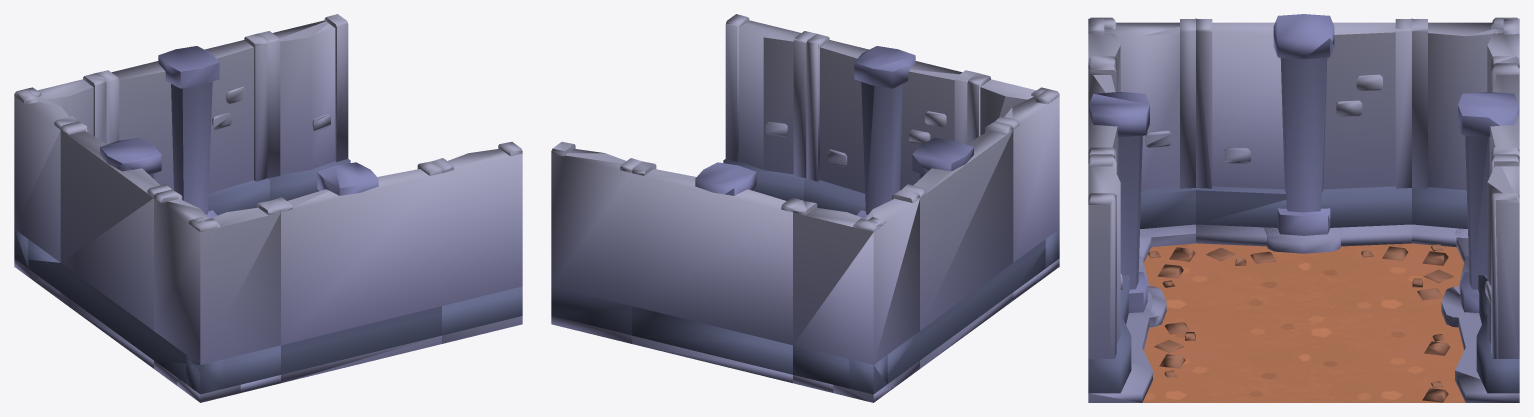
The model's file is corridor-wide-end.fbx.
3 views of the same model, side by side, from view 1: azimuth 30°, elevation 25°; view 2: azimuth 150°, elevation 25°; view 3: azimuth 270°, elevation 25° (orthographic). The views are drawn at different scales.
Parts seen in each view (by area): view 1: corridor-wide-end; view 2: corridor-wide-end; view 3: corridor-wide-end.
Boxes of the visible parts, x1,y1,x2,y2 form: corridor-wide-end: (14,14,522,402); corridor-wide-end: (551,14,1059,402); corridor-wide-end: (1088,14,1519,402).
Size of the model in its own units: 800 by 423 by 800.
